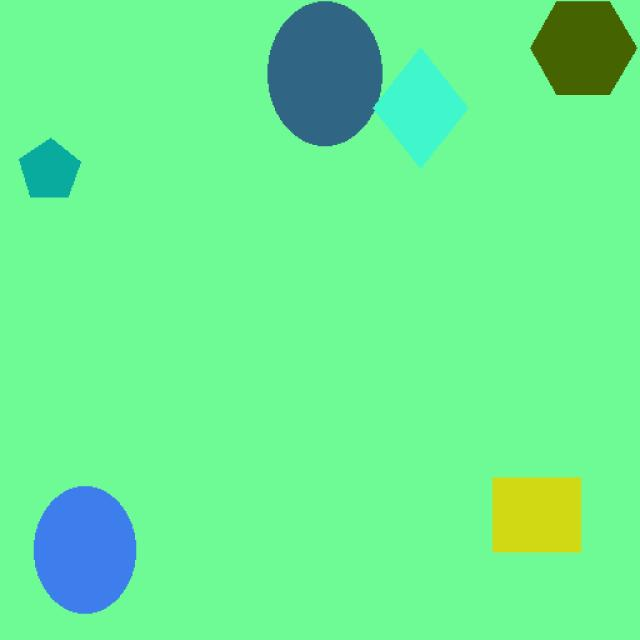Circle: (11, 458, 171, 616), (255, 0, 402, 162)
Hexagon: (529, 0, 640, 118)
Pentagon: (20, 123, 109, 220)
Rectangle: (443, 455, 614, 596)
square: (368, 36, 486, 185)
